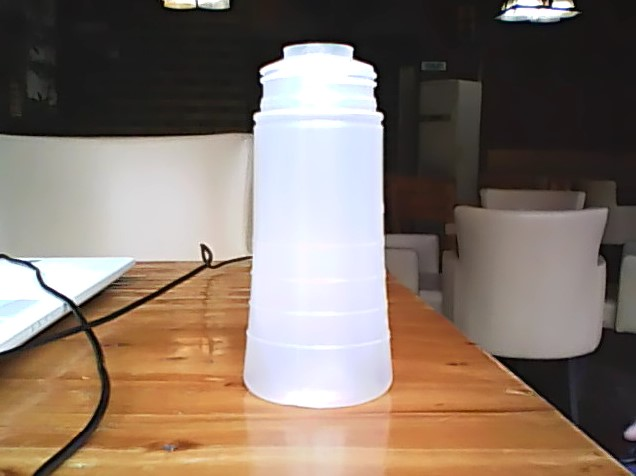Plastic: (237, 39, 399, 415)
